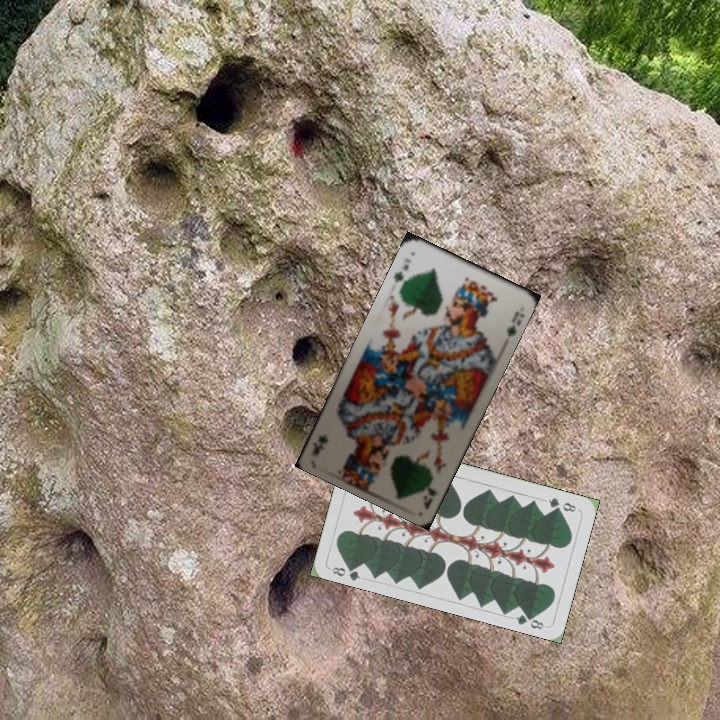G8: (328, 560, 363, 583), (544, 493, 579, 515)
GK: (419, 470, 441, 511), (389, 254, 414, 290)
